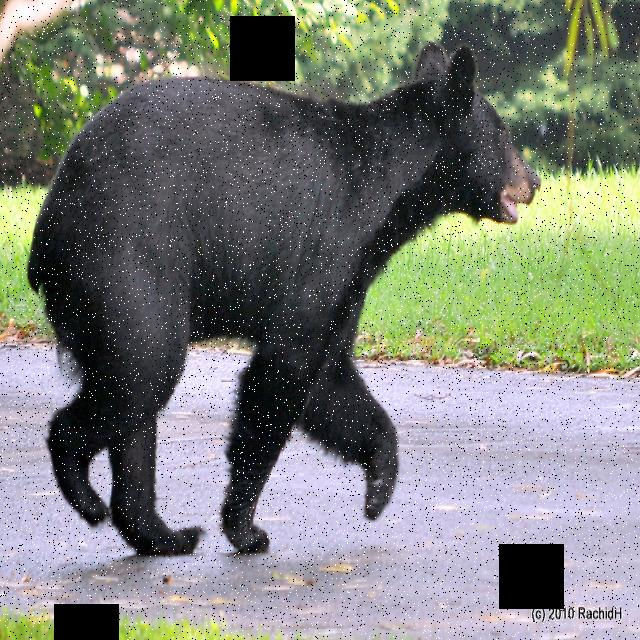Bear: (23, 35, 544, 565)
